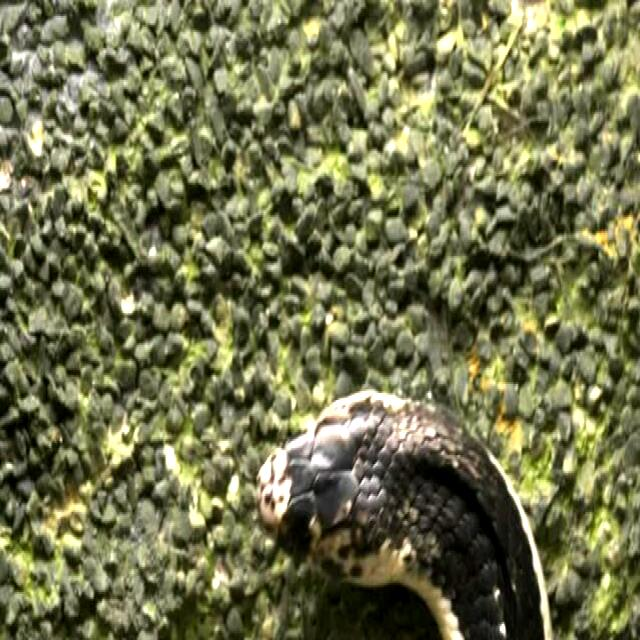Naja siamensis: (258, 392, 551, 639)
